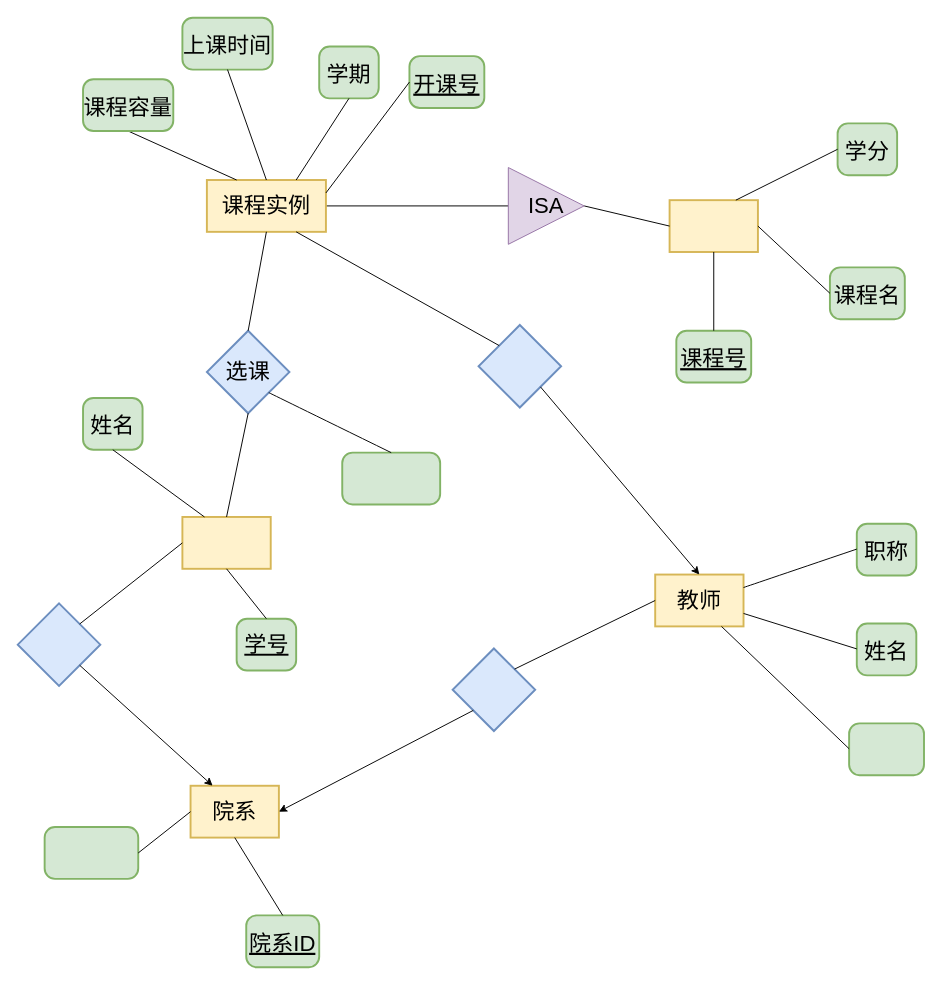
Some shapes in this 941 by 984 pixel diagram are drawn without their labels. Here are the shapes that lost their labels. From the top down, the centre of each, then its label:
At point 713,225: "课程".
At point 519,366: "授课".
At point 391,478: "选课人数".
At point 226,542: "学生".
At point 58,644: "就读".
At point 493,689: "任职".
At point 886,749: "教师号".
At point 91,852: "院系名称".
